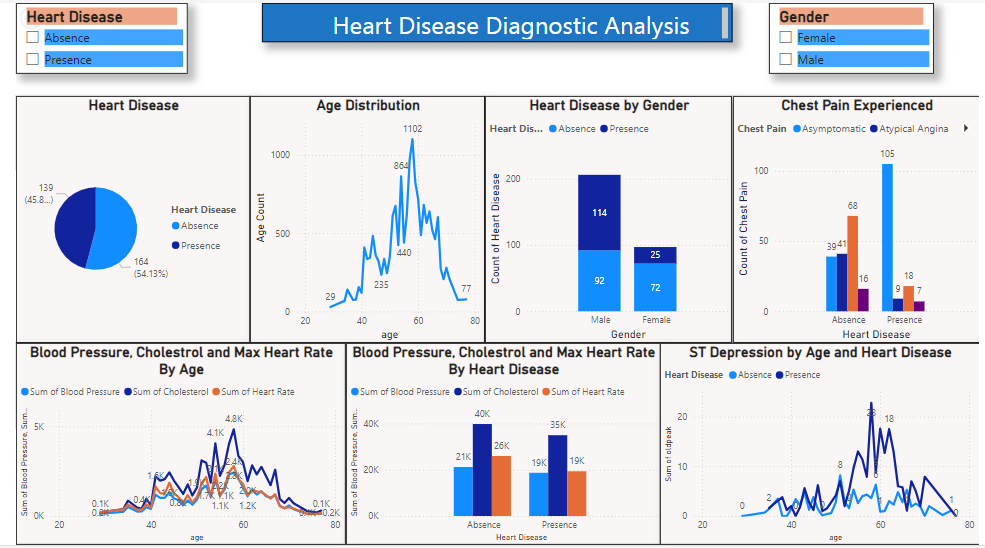

The dashboard page shown, as its layout file describes it:
{"tool":"powerbi","page":{"name":"Dashboard","canvas":[1280,720],"ordinal":0},"visuals":[{"type":"textbox","box":[326.9,0,625,51.8],"z":0},{"type":"slicer","fields":{"Values":["2 heart_disease_dataset.Gender"]},"box":[1000.8,0,218.9,93.6],"z":1000},{"type":"actionButton","box":[0,0,100,40],"z":2000},{"type":"slicer","fields":{"Values":["2 heart_disease_dataset.Heart Disease"]},"box":[0,0,227.5,93.6],"z":3000},{"type":"pieChart","title":"Heart Disease","fields":{"Category":["2 heart_disease_dataset.Heart Disease"],"Y":["CountNonNull(2 heart_disease_dataset.Heart Disease)"]},"box":[0,123.8,311,328.3],"z":4000},{"type":"lineChart","title":"Age Distribution","fields":{"Category":["2 heart_disease_dataset.age"],"Y":["Sum(2 heart_disease_dataset.age)"]},"box":[311,123.8,312.5,328.3],"z":5000},{"type":"columnChart","title":"Heart Disease by Gender","fields":{"Category":["2 heart_disease_dataset.Gender"],"Y":["CountNonNull(2 heart_disease_dataset.Heart Disease)"],"Series":["2 heart_disease_dataset.Heart Disease"]},"box":[623.5,123.8,328.3,328.3],"z":6000},{"type":"clusteredColumnChart","title":"Chest Pain Experienced ","fields":{"Y":["CountNonNull(2 heart_disease_dataset.cp)"],"Category":["2 heart_disease_dataset.Heart Disease"],"Series":["2 heart_disease_dataset.cp"]},"box":[951.8,123.8,328.3,328.3],"z":7000},{"type":"lineChart","title":"Blood Pressure, Cholestrol and Max Heart Rate By Age","fields":{"Category":["2 heart_disease_dataset.age"],"Y":["Sum(2 heart_disease_dataset.Blood Pressure)","Sum(2 heart_disease_dataset.Cholesterol)","Sum(2 heart_disease_dataset.Heart Rate)"]},"box":[0,452.2,437.8,267.8],"z":8000},{"type":"clusteredColumnChart","title":"Blood Pressure, Cholestrol and Max Heart Rate By Heart Disease","fields":{"Category":["2 heart_disease_dataset.Heart Disease"],"Y":["Sum(2 heart_disease_dataset.Blood Pressure)","Sum(2 heart_disease_dataset.Cholesterol)","Sum(2 heart_disease_dataset.Heart Rate)"]},"box":[437.8,452.2,417.6,267.8],"z":9000},{"type":"lineChart","title":"ST Depression by Age and Heart Disease","fields":{"Category":["2 heart_disease_dataset.age"],"Series":["2 heart_disease_dataset.Heart Disease"],"Y":["Sum(2 heart_disease_dataset.oldpeak)"]},"box":[855.4,452.2,424.8,267.8],"z":10000}]}

Visuals, with their boxes in screenshot pixels (x1, y1, x2, y2), scaled from the page's 1280x720 canvas onto the 985x548 screenshot:
textbox: crop(252, 0, 733, 39)
slicer - 2 heart_disease_dataset.Gender: crop(770, 0, 939, 71)
actionButton: crop(0, 0, 77, 30)
slicer - 2 heart_disease_dataset.Heart Disease: crop(0, 0, 175, 71)
"Heart Disease" pieChart: crop(0, 94, 239, 344)
"Age Distribution" lineChart: crop(239, 94, 480, 344)
"Heart Disease by Gender" columnChart: crop(480, 94, 732, 344)
"Chest Pain Experienced " clusteredColumnChart: crop(732, 94, 984, 344)
"Blood Pressure, Cholestrol and Max Heart Rate By Age" lineChart: crop(0, 344, 337, 547)
"Blood Pressure, Cholestrol and Max Heart Rate By Heart Disease" clusteredColumnChart: crop(337, 344, 658, 547)
"ST Depression by Age and Heart Disease" lineChart: crop(658, 344, 984, 547)
